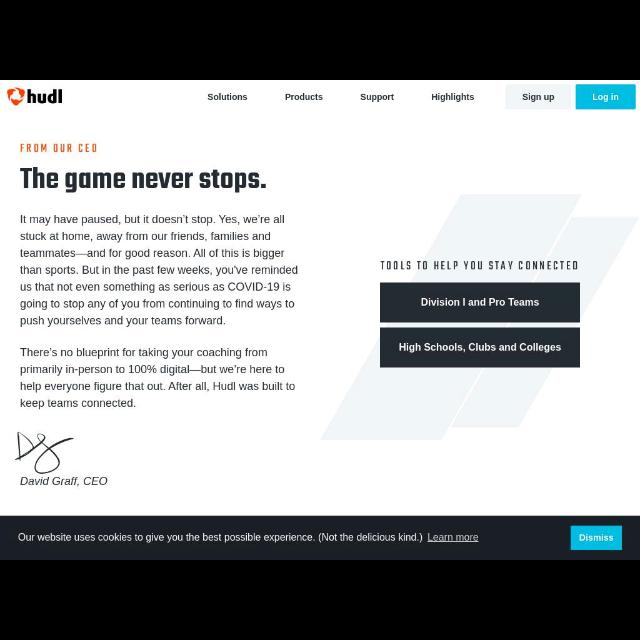backgroundimage: (1, 80, 640, 516)
icon: (15, 432, 73, 473)
image: (8, 88, 24, 106)
text: (20, 215, 298, 328), (21, 348, 296, 410), (20, 167, 266, 193), (18, 533, 478, 543), (381, 260, 577, 270), (400, 343, 560, 352), (21, 477, 107, 488), (421, 298, 539, 306), (20, 144, 96, 152), (28, 89, 62, 103), (432, 94, 474, 102), (361, 94, 394, 102), (580, 534, 612, 542), (208, 94, 248, 100), (524, 94, 554, 102), (594, 93, 618, 103), (286, 94, 322, 100)
textbutton: (380, 328, 580, 367), (380, 284, 580, 322), (507, 84, 571, 110), (576, 84, 636, 110), (570, 526, 622, 550)
